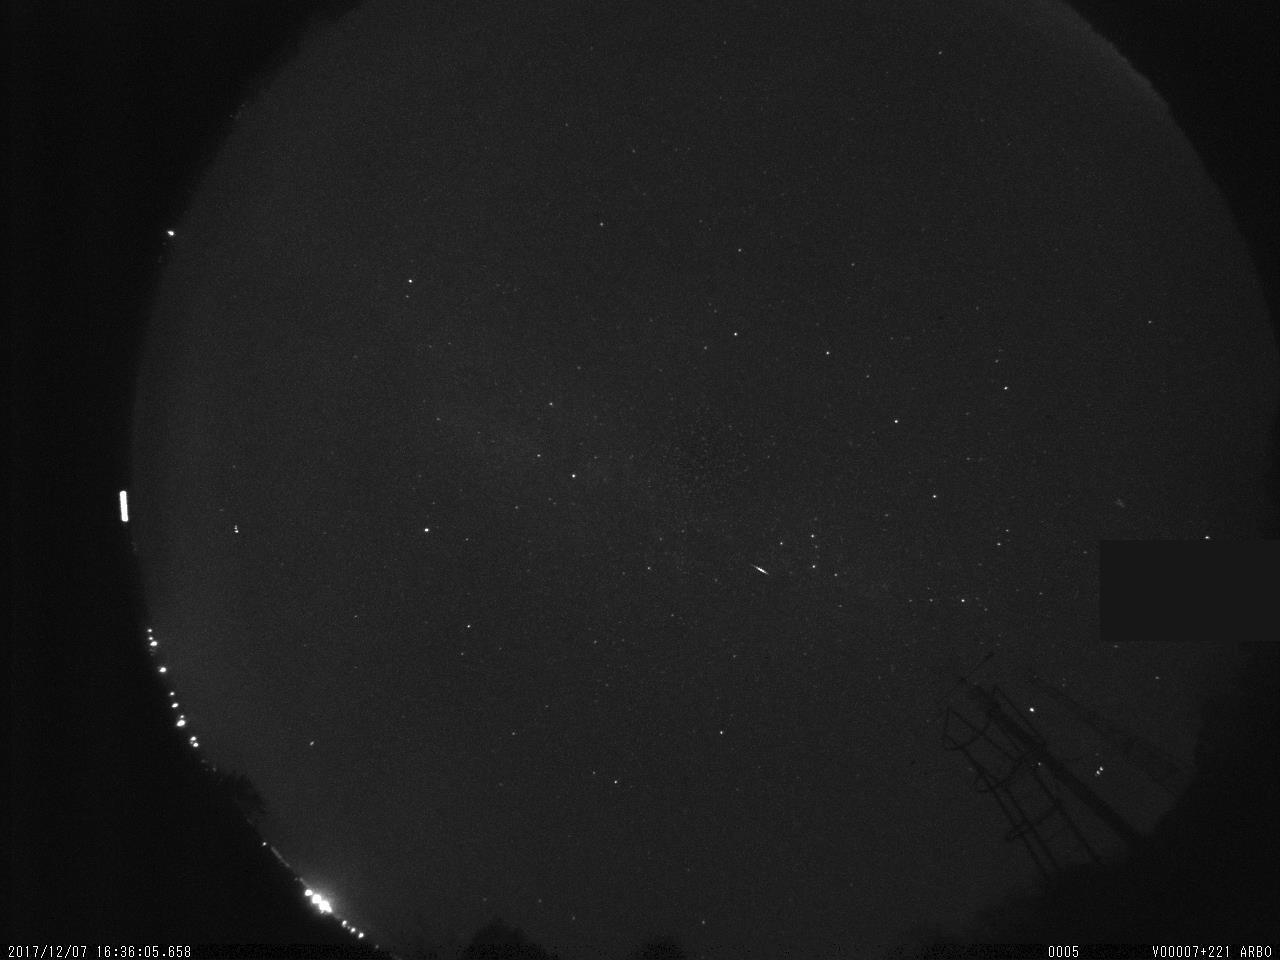meteor: (740, 556, 770, 580)
